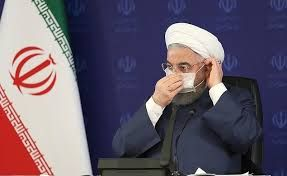with-mask: (159, 30, 213, 114)
